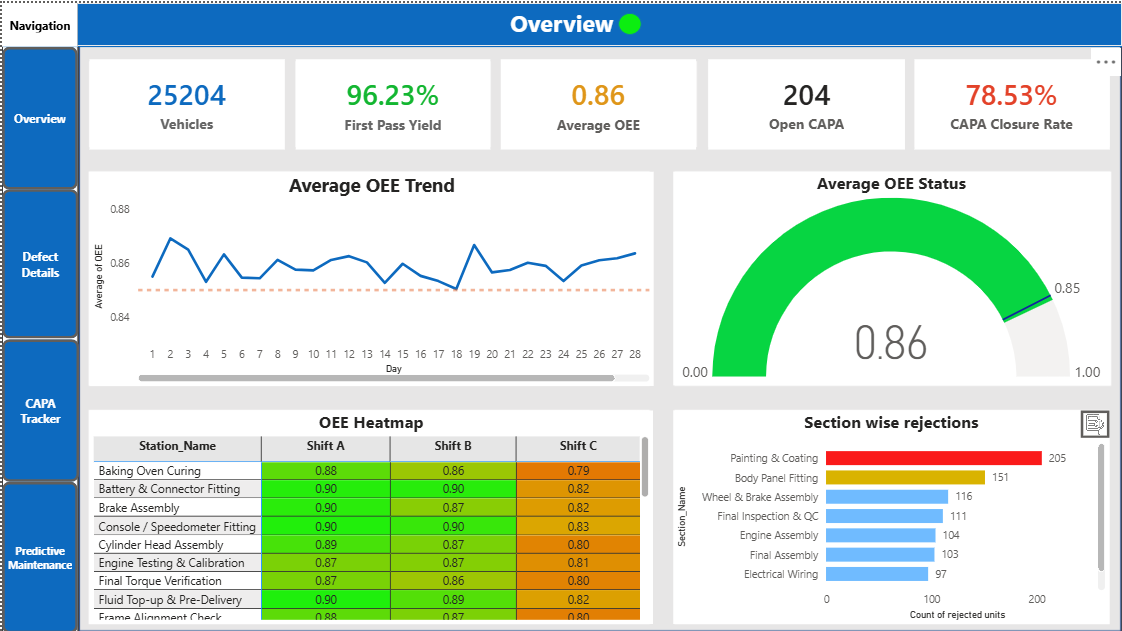

Layout of this report page (visuals, bound fields, positions):
{"tool":"powerbi","page":{"name":"Overview Page","canvas":[1280,720],"ordinal":1},"visuals":[{"type":"image","title":"examine further button","box":[87.1,47.1,1192.9,672.9],"z":0},{"type":"cardVisual","title":"No. of vehicles Card","fields":{"Data":["Fact_ProductUnit.count of products"]},"box":[100,64.3,222.9,102.9],"z":1000},{"type":"cardVisual","title":"FPY Card","fields":{"Data":["Fact_ProductUnit.First Pass Yield"]},"box":[335.6,64.4,222.5,103.1],"z":2000},{"type":"cardVisual","title":"Avg OEE Card","fields":{"Data":["Fact_StationPerformance.Average OEE"]},"box":[570.6,64.4,223.1,103.1],"z":3000},{"type":"cardVisual","title":"Open CAPA Card","fields":{"Data":["Fact_CAPA_NCR.Open CAPA"]},"box":[807.1,64.3,225,102.9],"z":4000},{"type":"cardVisual","title":"CAPA Closure Card","fields":{"Data":["Fact_CAPA_NCR.CAPA Closure Rate"]},"box":[1042.9,64.3,222.9,102.9],"z":5000},{"type":"lineChart","title":"Average OEE Trend","fields":{"Y":["Avg(Fact_StationPerformance.OEE)"],"Category":["Dim_Date.Day"]},"box":[100,193.3,645,245],"z":6000},{"type":"gauge","title":"Average OEE Status","fields":{"Y":["Avg(Fact_StationPerformance.OEE)"]},"box":[767.1,192.9,498.6,244.3],"z":7000},{"type":"clusteredBarChart","title":"Section wise rejections","fields":{"Category":["Dim_Station.Section_Name"],"Y":["Fact_ProductUnit.Count of rejected units"]},"box":[767.1,465.7,498.6,244.3],"z":8000},{"type":"textbox","title":"Title Text box","box":[0,0,1280,50],"z":9000},{"type":"shape","title":"navigation bar border","box":[0,0,86.7,720],"z":10000},{"type":"actionButton","title":"Overview Button","box":[0,50,86.7,163.3],"z":11000},{"type":"actionButton","title":"Defect Details Button","box":[0,213.3,87.3,170.7],"z":12000},{"type":"actionButton","title":"CAPA Tracker Button","box":[0,384,88,163],"z":13000},{"type":"actionButton","title":"Predictive MaintenanceButton","box":[0,546.7,86.7,173.3],"z":14000},{"type":"actionButton","title":"section wise investigate button","box":[1232.9,465.7,32.9,31.4],"z":15000},{"type":"shape","title":"Navigation title","box":[0,0,86.7,50],"z":18000},{"type":"shape","title":"Status circle","box":[705,11.7,26.7,25],"z":19000},{"type":"pivotTable","title":"OEE Heatmap","fields":{"Rows":["Dim_Station.Station_Name"],"Columns":["Dim_Shift.Shift_Name"],"Values":["Fact_StationPerformance.Average OEE"]},"box":[100,465.7,644.3,244.3],"z":20000}]}

Visuals, with their boxes on the page's 1280x720 design canvas (x1, y1, x2, y2). These are canvas units, not pixel positions in the 1122x631 screenshot, which may show the page scaled, cropped or inside an application window:
"examine further button" image: {"x1": 87, "y1": 47, "x2": 1280, "y2": 720}
"No. of vehicles Card" cardVisual: {"x1": 100, "y1": 64, "x2": 323, "y2": 167}
"FPY Card" cardVisual: {"x1": 336, "y1": 64, "x2": 558, "y2": 168}
"Avg OEE Card" cardVisual: {"x1": 571, "y1": 64, "x2": 794, "y2": 168}
"Open CAPA Card" cardVisual: {"x1": 807, "y1": 64, "x2": 1032, "y2": 167}
"CAPA Closure Card" cardVisual: {"x1": 1043, "y1": 64, "x2": 1266, "y2": 167}
"Average OEE Trend" lineChart: {"x1": 100, "y1": 193, "x2": 745, "y2": 438}
"Average OEE Status" gauge: {"x1": 767, "y1": 193, "x2": 1266, "y2": 437}
"Section wise rejections" clusteredBarChart: {"x1": 767, "y1": 466, "x2": 1266, "y2": 710}
"Title Text box" textbox: {"x1": 0, "y1": 0, "x2": 1280, "y2": 50}
"navigation bar border" shape: {"x1": 0, "y1": 0, "x2": 87, "y2": 720}
"Overview Button" actionButton: {"x1": 0, "y1": 50, "x2": 87, "y2": 213}
"Defect Details Button" actionButton: {"x1": 0, "y1": 213, "x2": 87, "y2": 384}
"CAPA Tracker Button" actionButton: {"x1": 0, "y1": 384, "x2": 88, "y2": 547}
"Predictive MaintenanceButton" actionButton: {"x1": 0, "y1": 547, "x2": 87, "y2": 720}
"section wise investigate button" actionButton: {"x1": 1233, "y1": 466, "x2": 1266, "y2": 497}
"Navigation title" shape: {"x1": 0, "y1": 0, "x2": 87, "y2": 50}
"Status circle" shape: {"x1": 705, "y1": 12, "x2": 732, "y2": 37}
"OEE Heatmap" pivotTable: {"x1": 100, "y1": 466, "x2": 744, "y2": 710}
